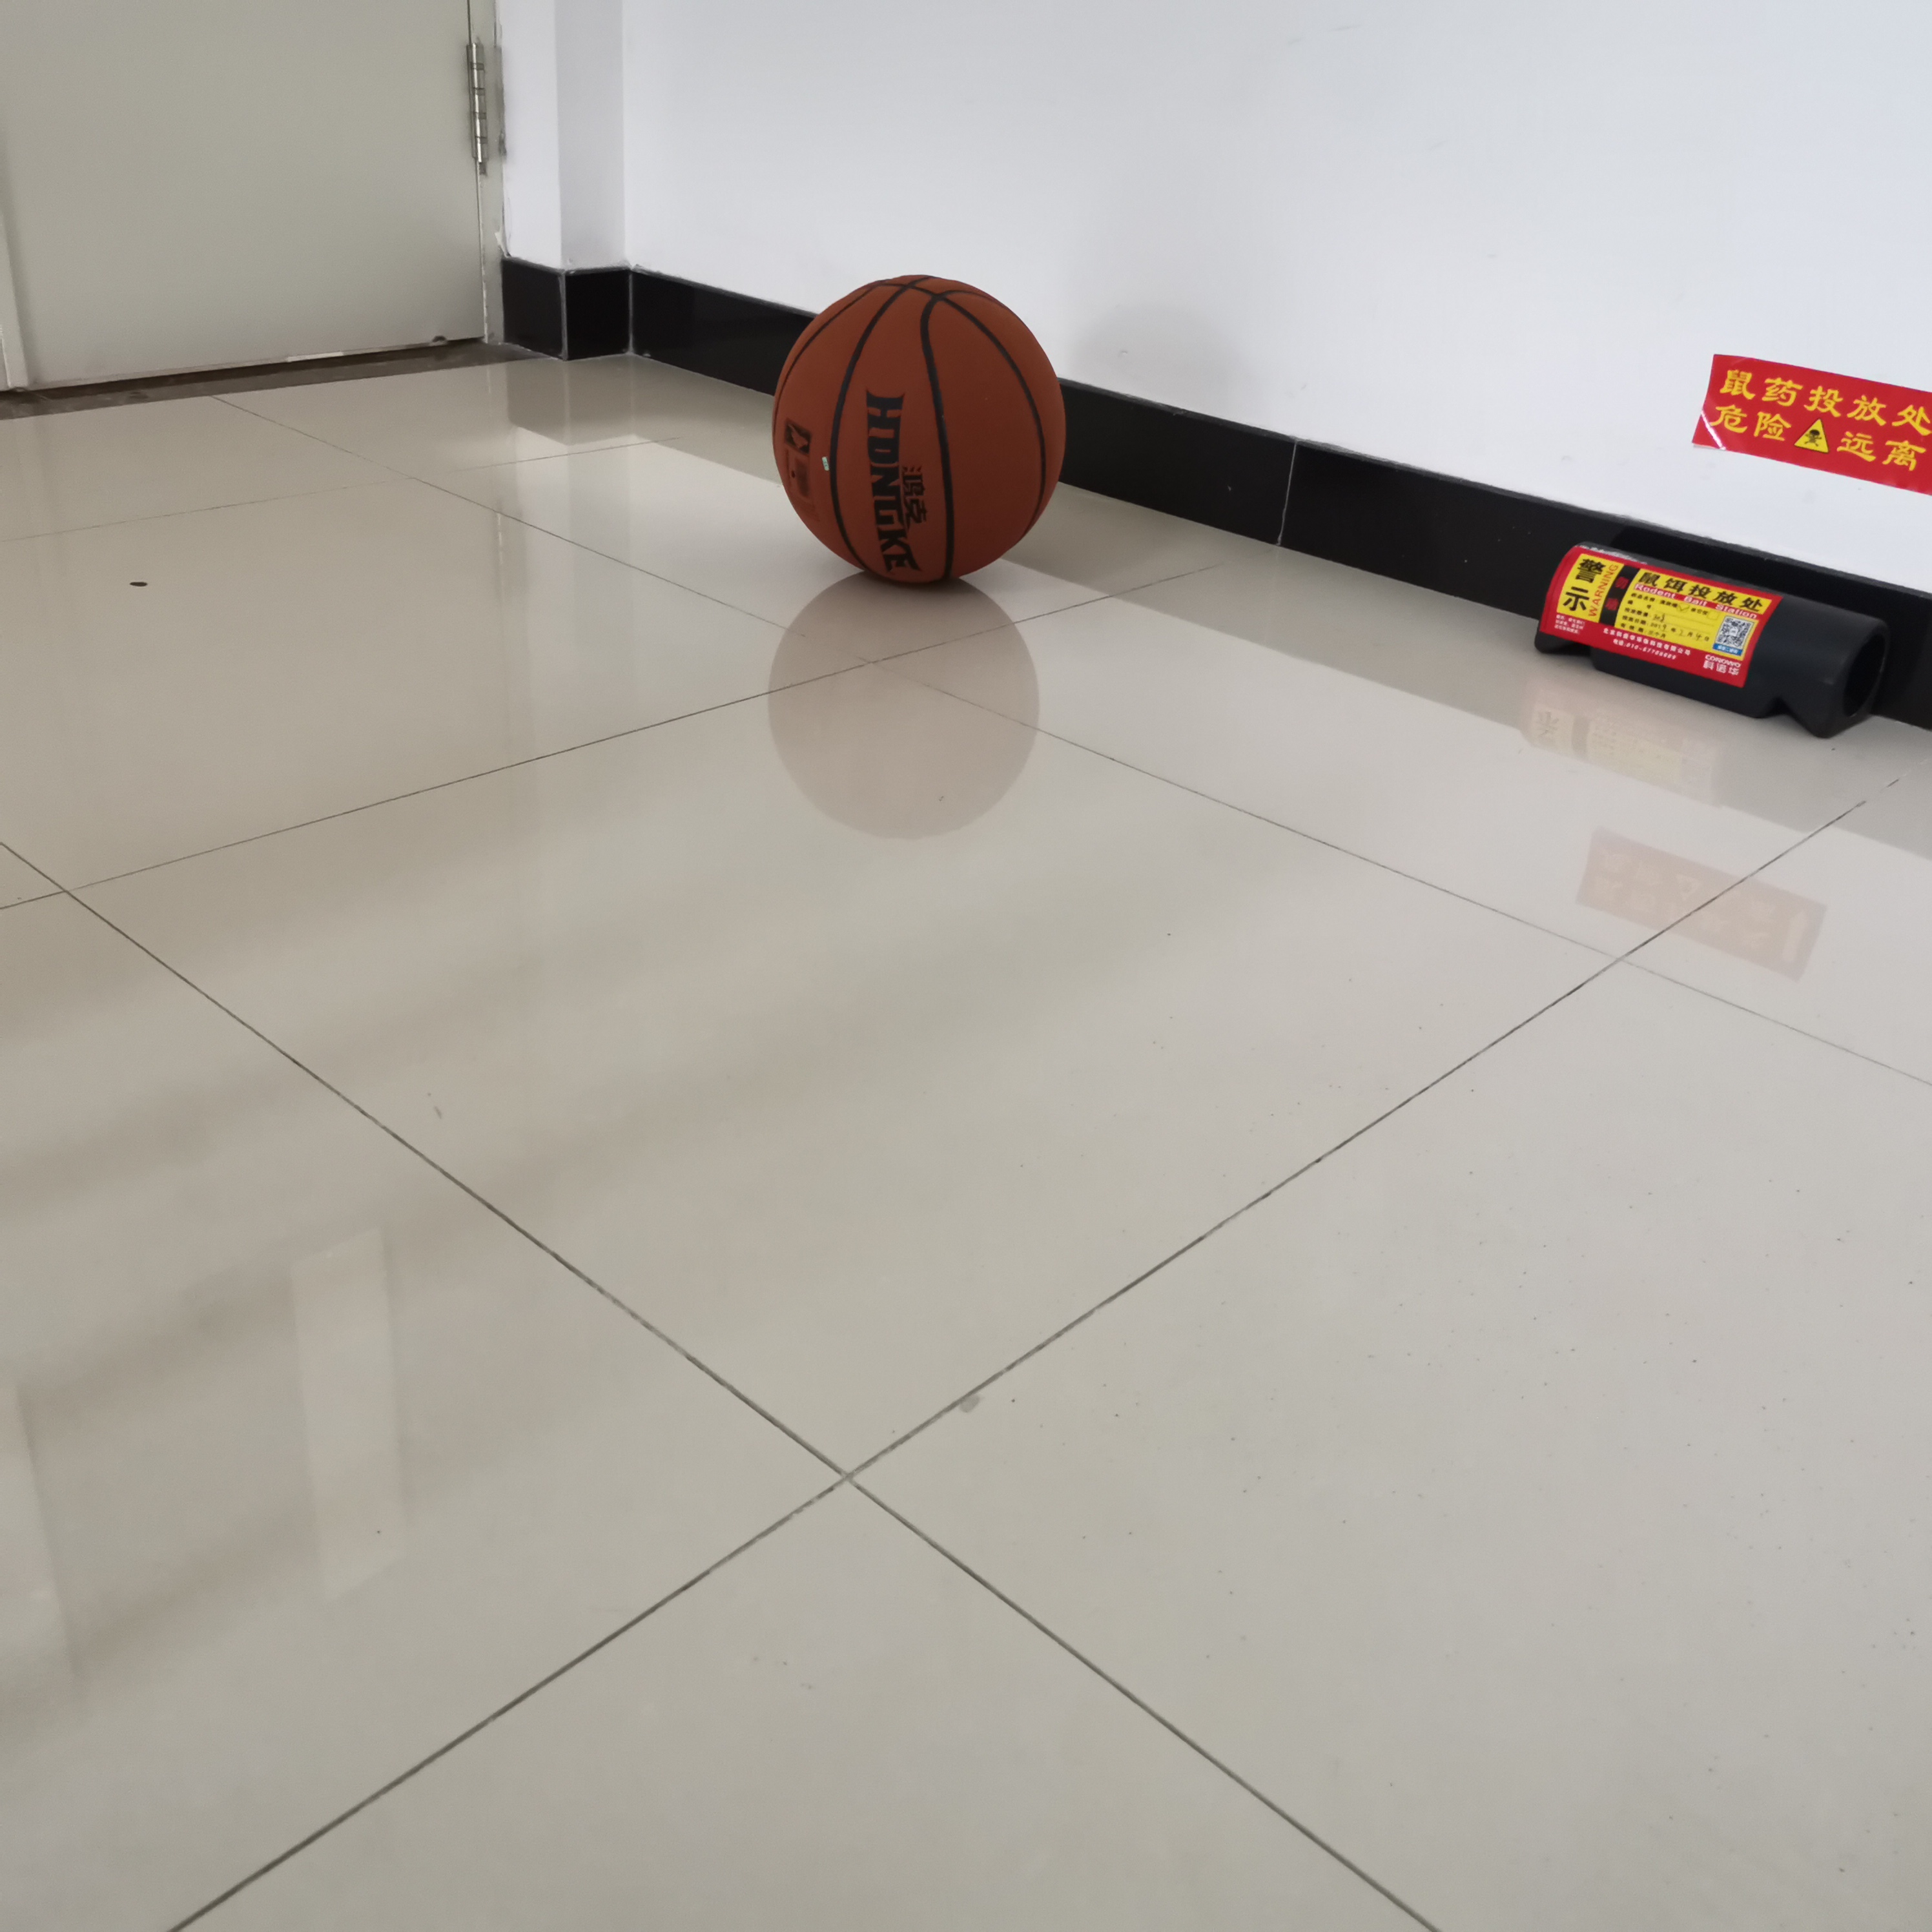basketball: (770, 274, 1065, 586)
